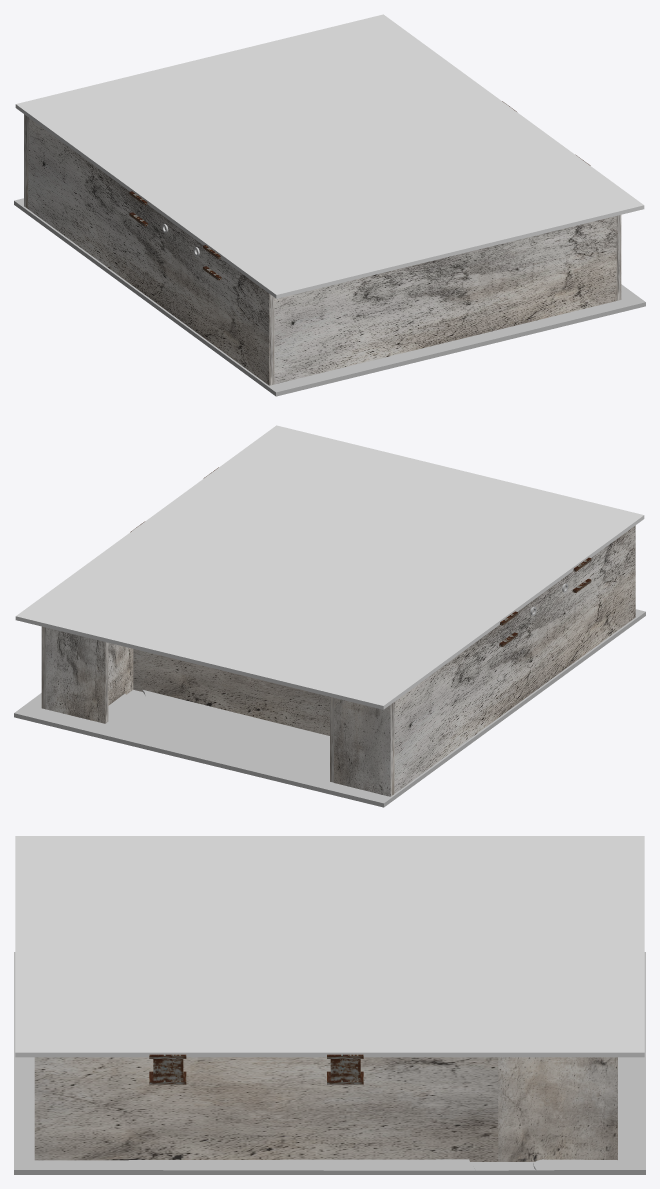
File: basementtwentyone.fbx
3 renders of one model, top to bottom at view 1: azimuth 30°, elevation 25°; view 2: azimuth 150°, elevation 25°; view 3: azimuth 270°, elevation 25°, orthographic. The views are drawn at different scales.
Visible parts, largest first — view 1: Plane.001, Cube.004, Cube, Plane; view 2: Plane.001, Cube, Plane, Cube.003, Cube.001, Cube.008, Cube.006; view 3: Plane.001, Cube.005, Plane, Cube.007, Cube.011, Cube.012.
Boxes of the visible parts, x1=… form: Plane.001: x1=15, y1=14, x2=644, y2=298; Cube.004: x1=274, y1=216, x2=616, y2=384; Cube: x1=28, y1=118, x2=274, y2=385; Plane: x1=14, y1=198, x2=645, y2=396; Plane.001: x1=15, y1=425, x2=644, y2=709; Cube: x1=394, y1=525, x2=635, y2=793; Plane: x1=14, y1=609, x2=645, y2=807; Cube.003: x1=133, y1=649, x2=329, y2=735; Cube.001: x1=334, y1=698, x2=394, y2=796; Cube.008: x1=46, y1=628, x2=108, y2=723; Cube.006: x1=108, y1=643, x2=133, y2=705; Plane.001: x1=15, y1=836, x2=644, y2=1057; Cube.005: x1=34, y1=1057, x2=498, y2=1161; Plane: x1=14, y1=952, x2=645, y2=1174; Cube.007: x1=498, y1=1057, x2=617, y2=1161; Cube.011: x1=149, y1=1054, x2=186, y2=1084; Cube.012: x1=327, y1=1054, x2=363, y2=1084.
Bounding box in the file's own units: 13.2 × 3.41 × 16.08.
